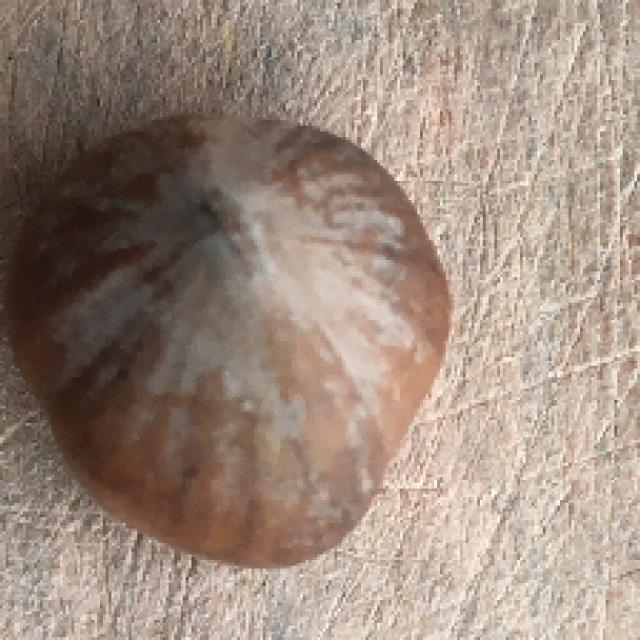damagedHazelnut: (0, 91, 452, 571)
